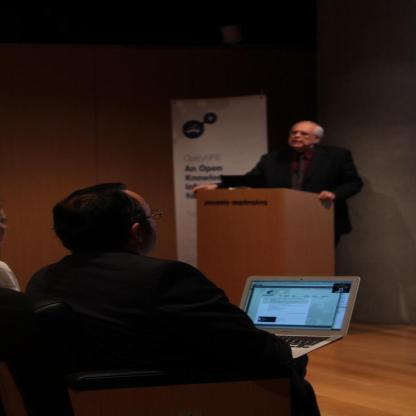board: (238, 274, 363, 360)
